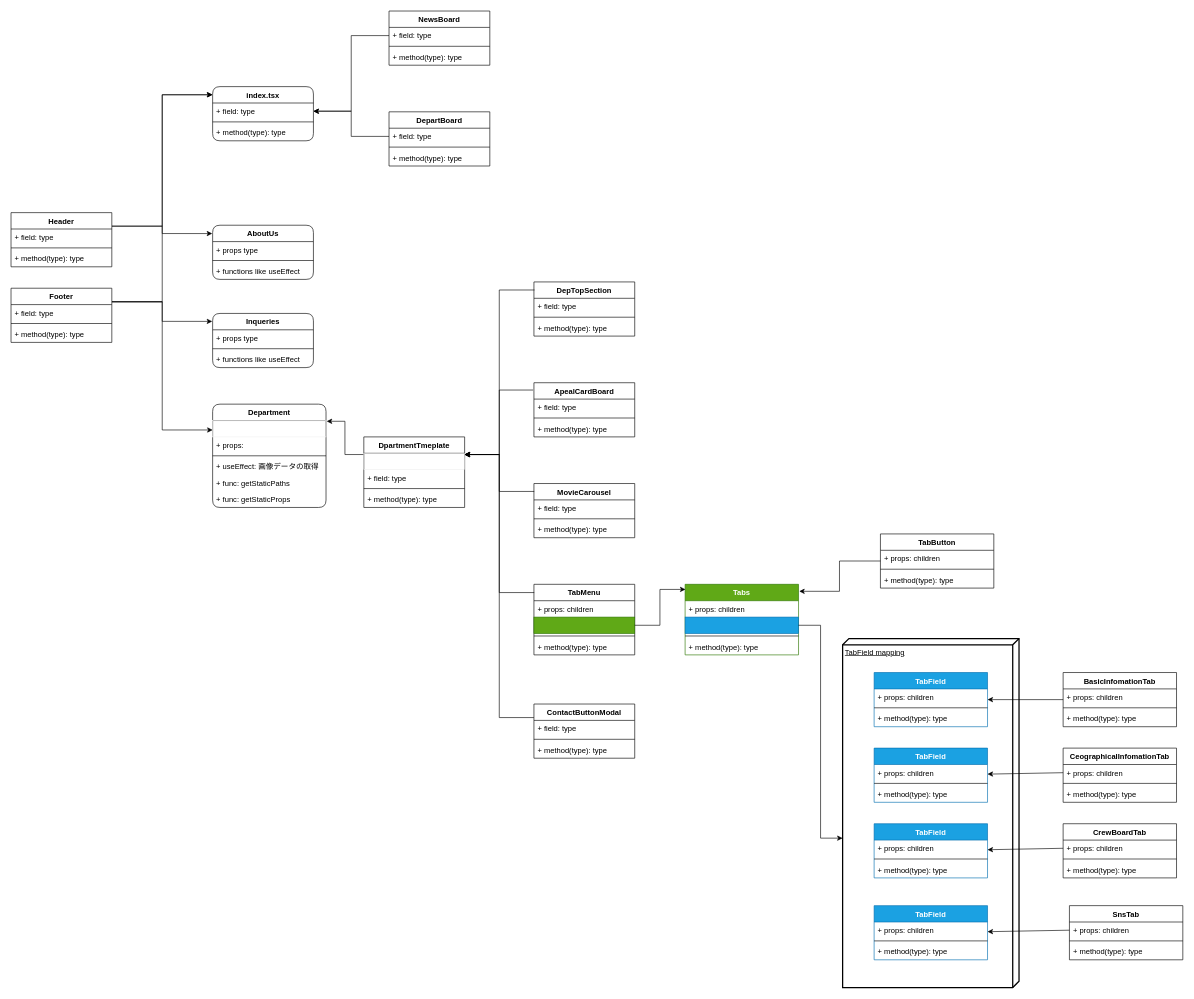
Image size: 1194x999. Some labels were removed from this diagram. Here are the shapes that lost their labels. From the top down, the centre of each, then its label:
the point at 269,428: focus: templateにデータを注入
the point at 414,461: focus: UIの構築
the point at 584,624: children: Tabs
the point at 741,624: children: TabField
